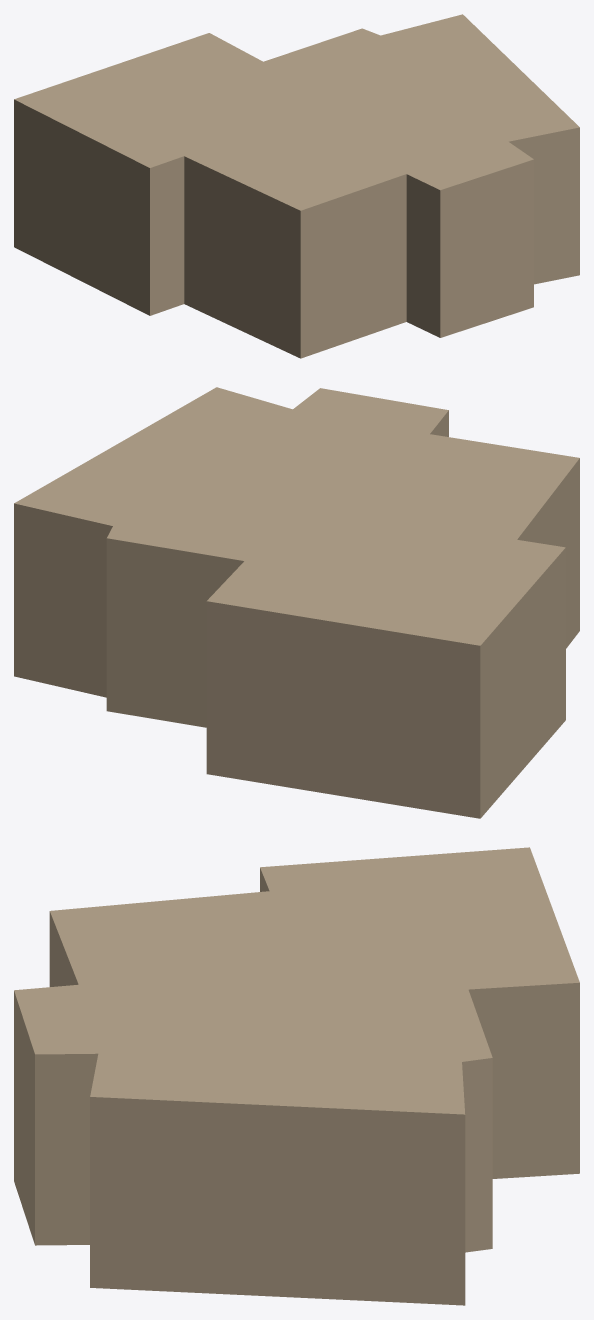
The model's file is bld_101374840.dae.
The picture shows the model from 3 angles, top to bottom: view 1: azimuth 30°, elevation 25°; view 2: azimuth 150°, elevation 25°; view 3: azimuth 270°, elevation 25°; orthographic projection. The views are drawn at different scales.
Parts seen in each view (by area): view 1: Hailey House; view 2: Hailey House; view 3: Hailey House.
Boxes of the visible parts, x1,y1,x2,y2 form: Hailey House: (14, 14, 579, 358); Hailey House: (14, 387, 579, 818); Hailey House: (14, 847, 579, 1305).
Bounding box in the file's own units: 24 × 21.48 × 8.
